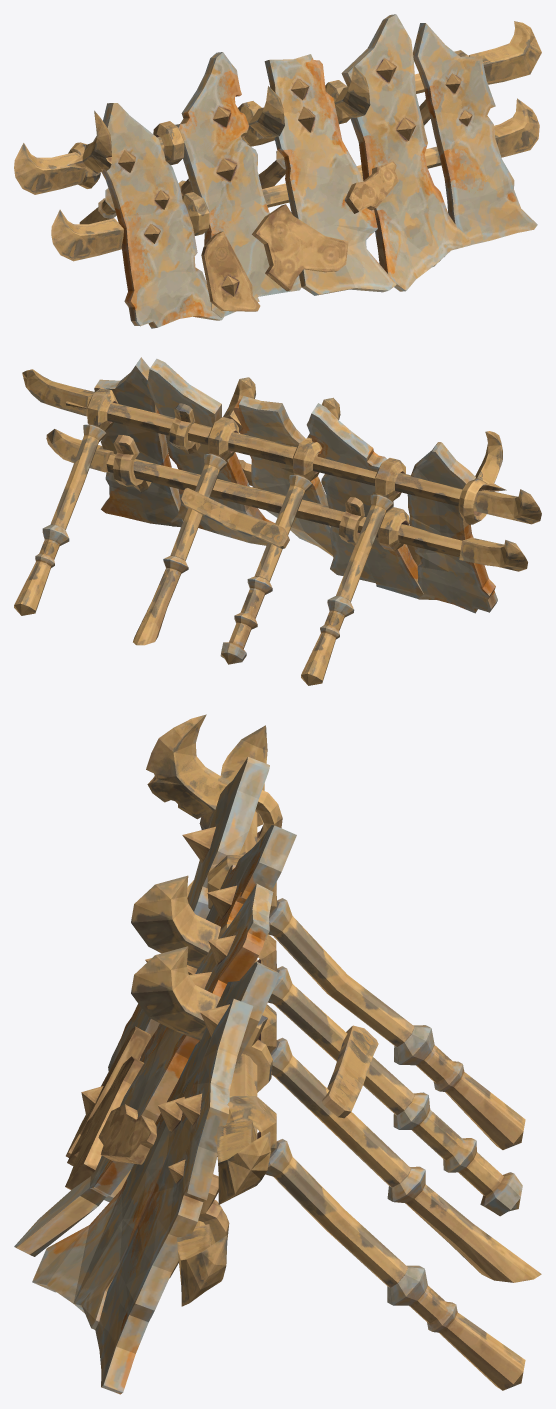
Rendered from Barricade_B.fbx.
3 views of the same model, one above another, from view 1: azimuth 30°, elevation 25°; view 2: azimuth 150°, elevation 25°; view 3: azimuth 270°, elevation 25° (orthographic). The views are drawn at different scales.
Visible parts, largest first — view 1: Dn_HL_Barricade_B.mo; view 2: Dn_HL_Barricade_B.mo; view 3: Dn_HL_Barricade_B.mo.
Boxes of the visible parts, x1=… form: Dn_HL_Barricade_B.mo: x1=14, y1=14, x2=541, y2=328; Dn_HL_Barricade_B.mo: x1=14, y1=357, x2=541, y2=685; Dn_HL_Barricade_B.mo: x1=14, y1=714, x2=541, y2=1394.
Bounding box in the file's own units: 688 × 277 × 353.
Materials: 1 (1 with a texture image).
